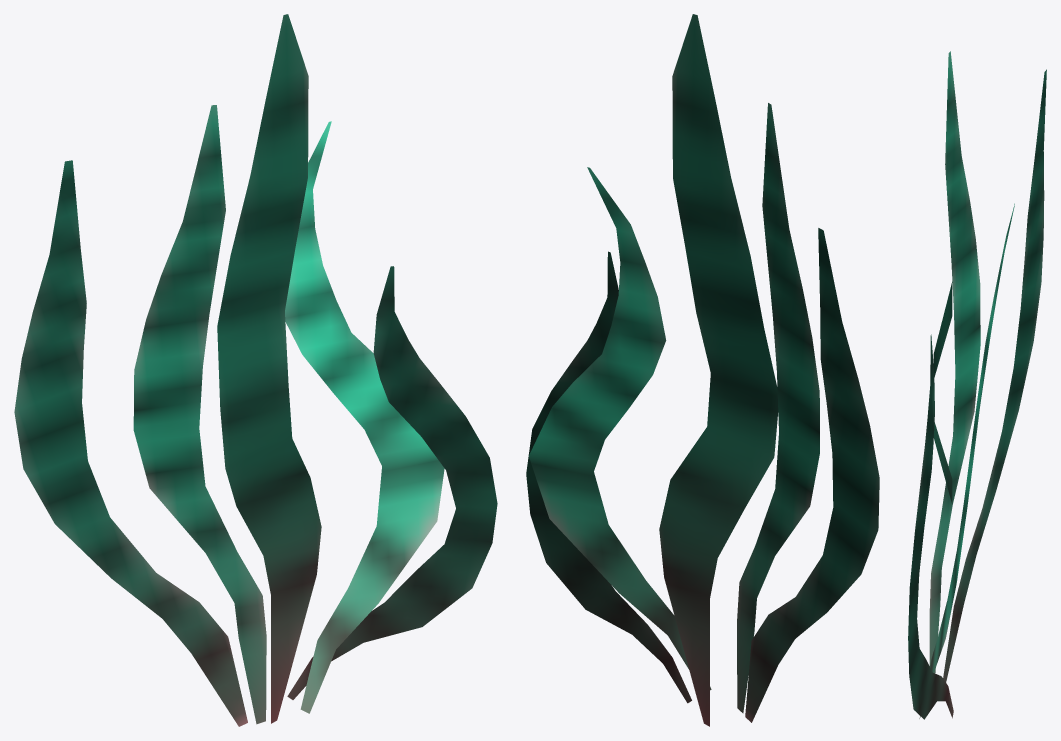
The model's file is plant_green.fbx.
3 views of the same model, side by side, from view 1: azimuth 30°, elevation 25°; view 2: azimuth 150°, elevation 25°; view 3: azimuth 270°, elevation 25° (orthographic).
Parts seen in each view (by area): view 1: Plant_green; view 2: Plant_green; view 3: Plant_green.
Part boxes in pixels (left/top/right/bottom): Plant_green: left=14, top=14, right=497, bottom=726; Plant_green: left=526, top=14, right=879, bottom=726; Plant_green: left=908, top=51, right=1046, bottom=719.
Size of the model in its own units: 26.55 by 42.87 by 7.51.
